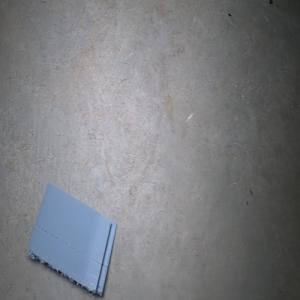PlasticPart: (26, 181, 118, 297)
